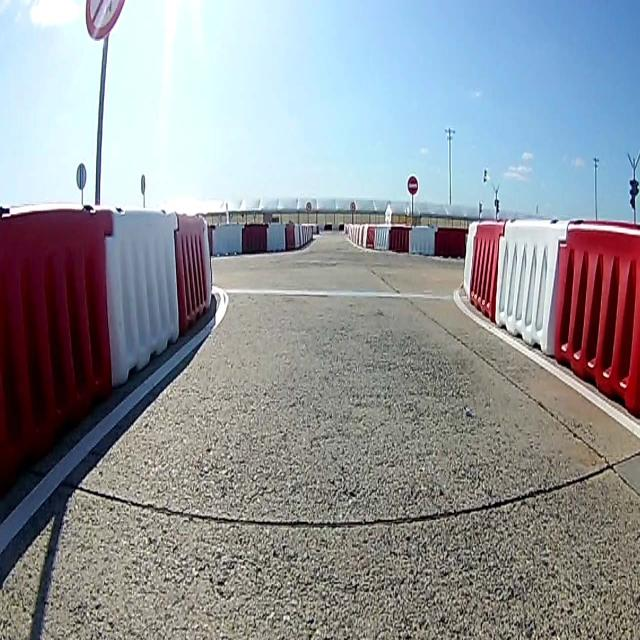girisyok: (408, 176, 418, 196)
